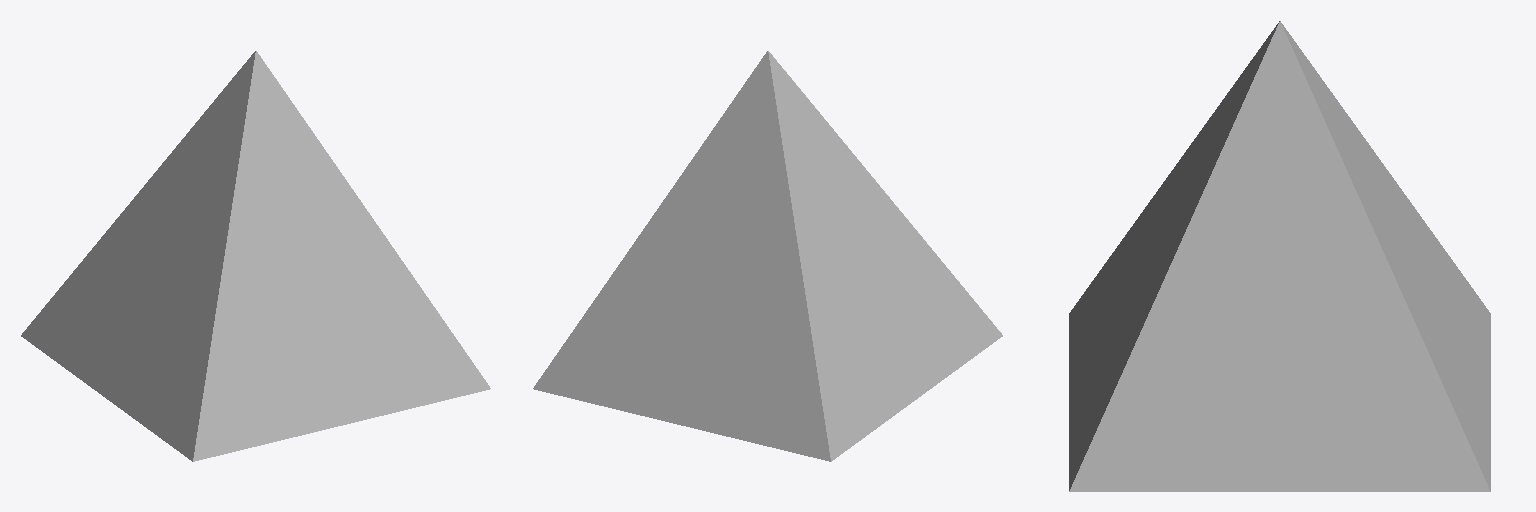
URDF robot description (root):
<robot name="root">
  <link name="link_001">
    <visual>
      <origin xyz="0 0 0" rpy="0 0 0"/>
      <geometry>
        <mesh filename="pyramidlarge.obj" scale="1.0000E+00 1.0000E+00 1.0000E+00"/>
      </geometry>
      <material name="">
        <color rgba="7.50E-01 7.50E-01 7.50E-01 1"/>
      </material>
    </visual>
    <collision>
      <origin xyz="0 0 0" rpy="0 0 0"/>
      <geometry>
        <mesh filename="pyramidlarge.obj" scale="1.0000E+00 1.0000E+00 1.0000E+00"/>
      </geometry>
    </collision>
    <inertial>
      <mass value="0.16"/> <!-- 质量：0.1kg -->
    </inertial>
  </link>
</robot>

--- Render facts (derived) ---
3 views of the same robot in one strip: view 1: azimuth 30°, elevation 25°; view 2: azimuth 150°, elevation 25°; view 3: azimuth 270°, elevation 25° (orthographic).
Model root with 1 links and 0 joints (none), rooted at link_001, posed every joint at zero.
Visible links, largest first — view 1: link_001; view 2: link_001; view 3: link_001.
Boxes of the visible links, x1,y1,x2,y2 form: link_001: (21, 51, 490, 461); link_001: (533, 51, 1002, 461); link_001: (1069, 21, 1490, 491).
Bounding box of the posed robot: 0.1001 × 0.1001 × 0.1001 m (x, y, z).
1 mesh visuals loaded from 1 distinct referenced files (1 OBJ).
